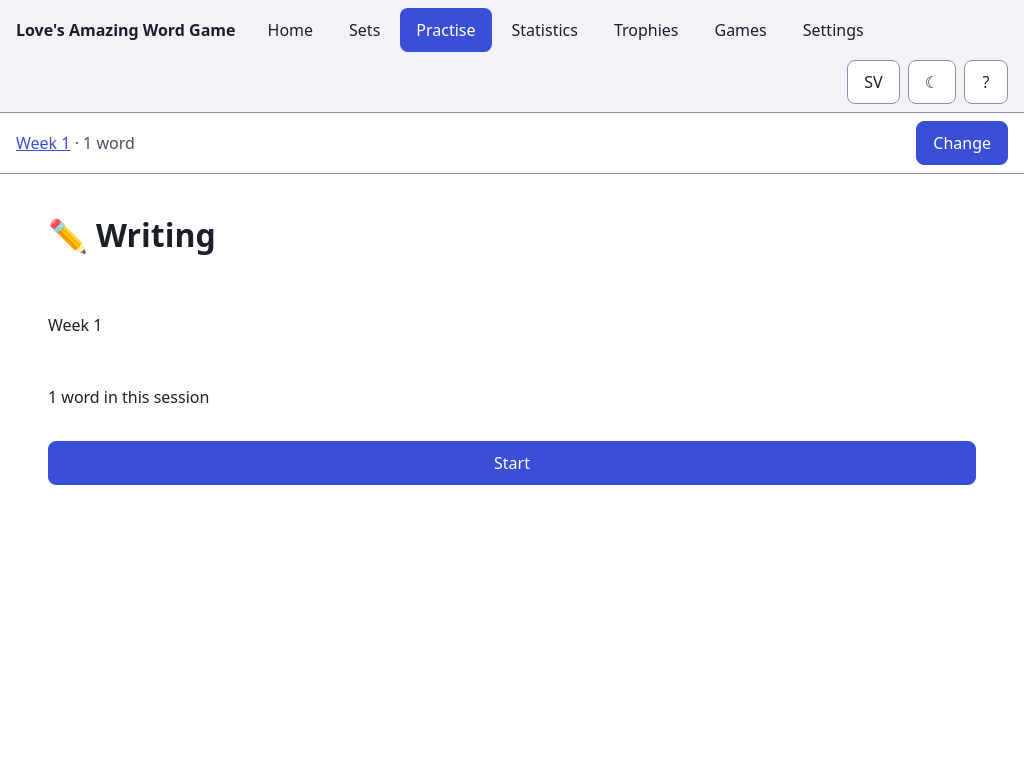
Scenario: writing mode › FR-WR-1: focuses a labelled input without autocorrect or spellcheck
The image size is (1024, 768).
Click the button "Start". click: (512, 463)
box: left=48, top=441, right=976, bottom=485
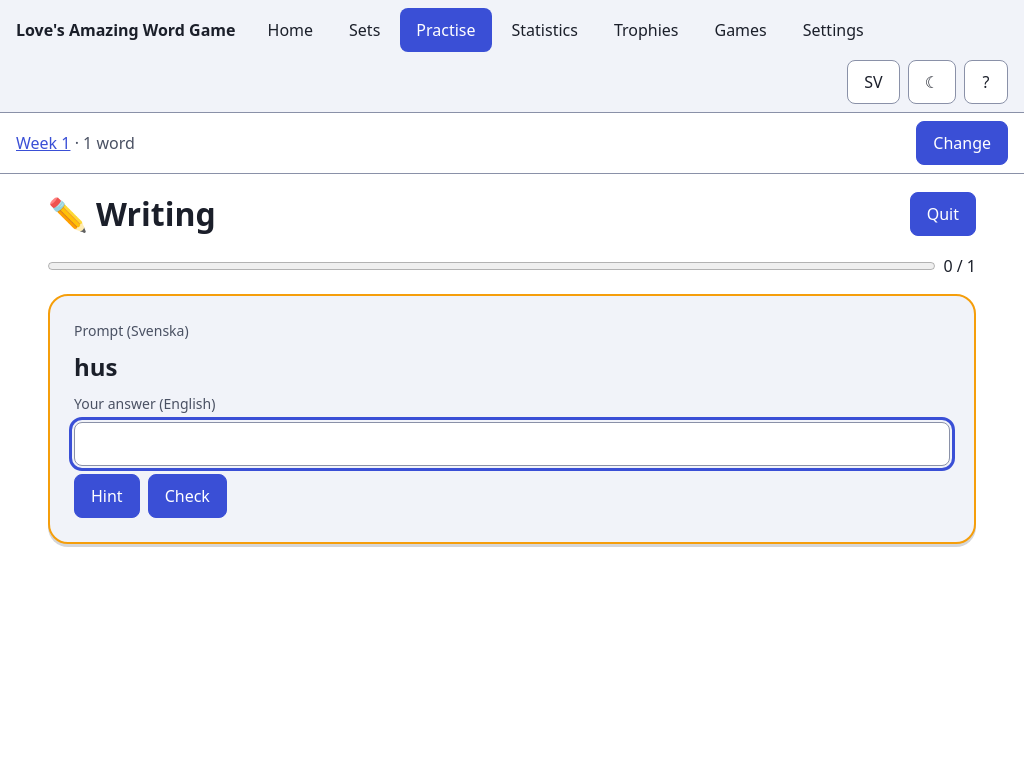
Now the text "Prompt (Svenska)" is shown, box left=74, top=321, right=189, bottom=340
